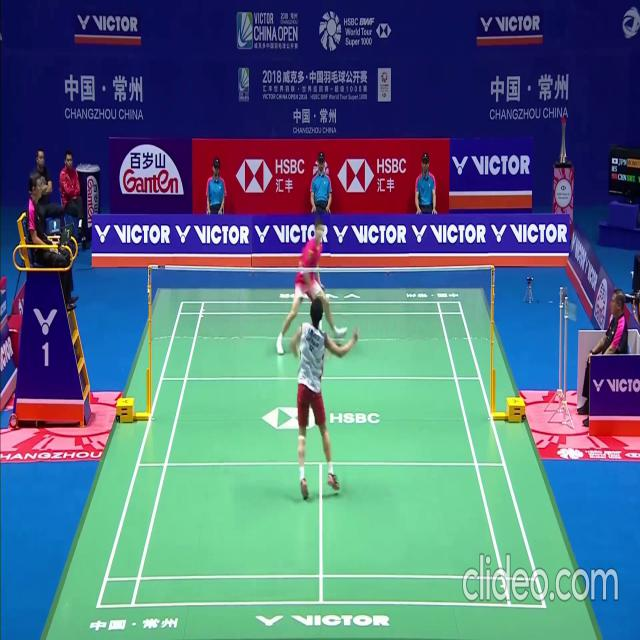Shuttlecock: (363, 234, 368, 242)
